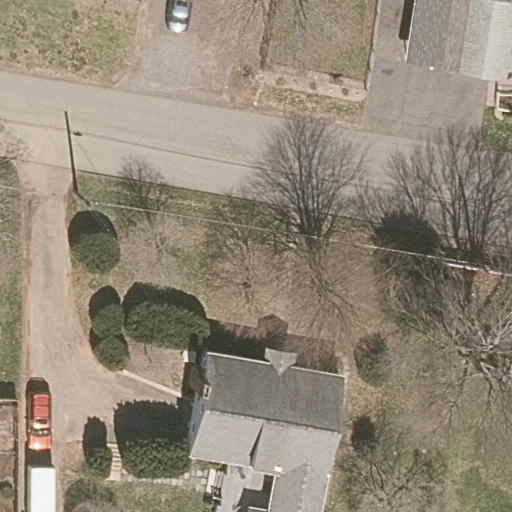DT: (72, 191, 98, 208)
